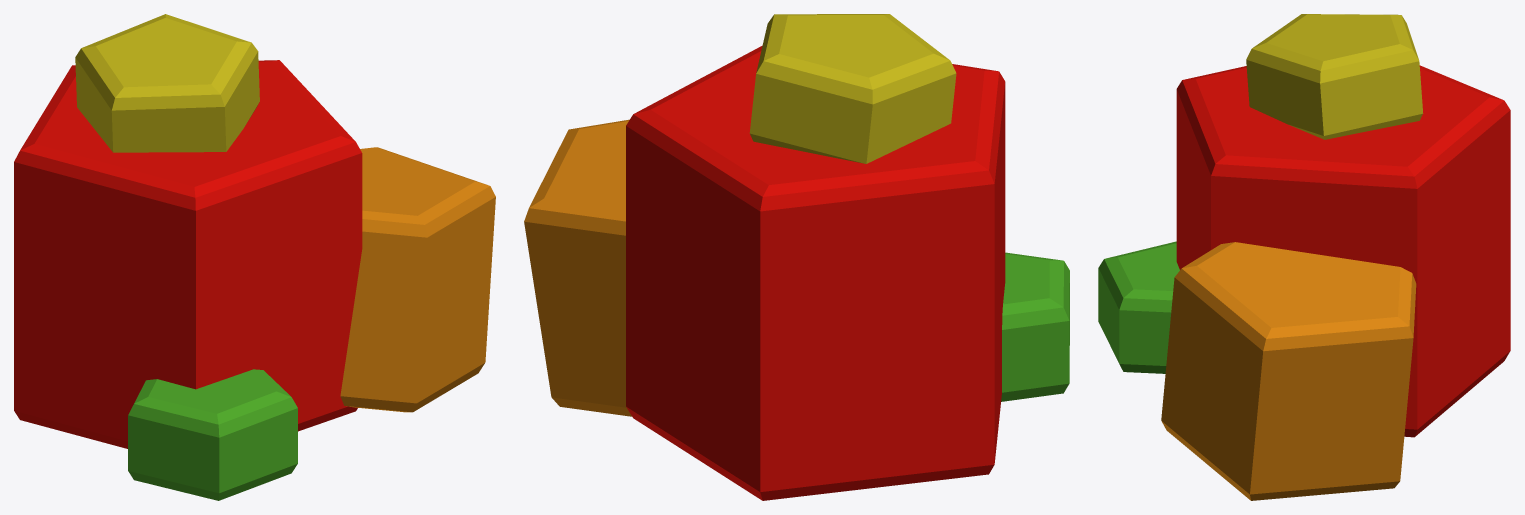
The model's file is Gummy_Ore.glb.
The picture shows the model from 3 angles, left to right: view 1: azimuth 30°, elevation 25°; view 2: azimuth 150°, elevation 25°; view 3: azimuth 270°, elevation 25°; orthographic projection. The views are drawn at different scales.
Visible parts, largest first — view 1: Gummy_Ore; view 2: Gummy_Ore; view 3: Gummy_Ore.
Boxes of the visible parts, bbox=[...] form: Gummy_Ore: bbox=[14, 14, 495, 500]; Gummy_Ore: bbox=[524, 14, 1069, 500]; Gummy_Ore: bbox=[1098, 14, 1510, 500].
Size of the model in its own units: 1.36 by 1.1 by 1.16.
